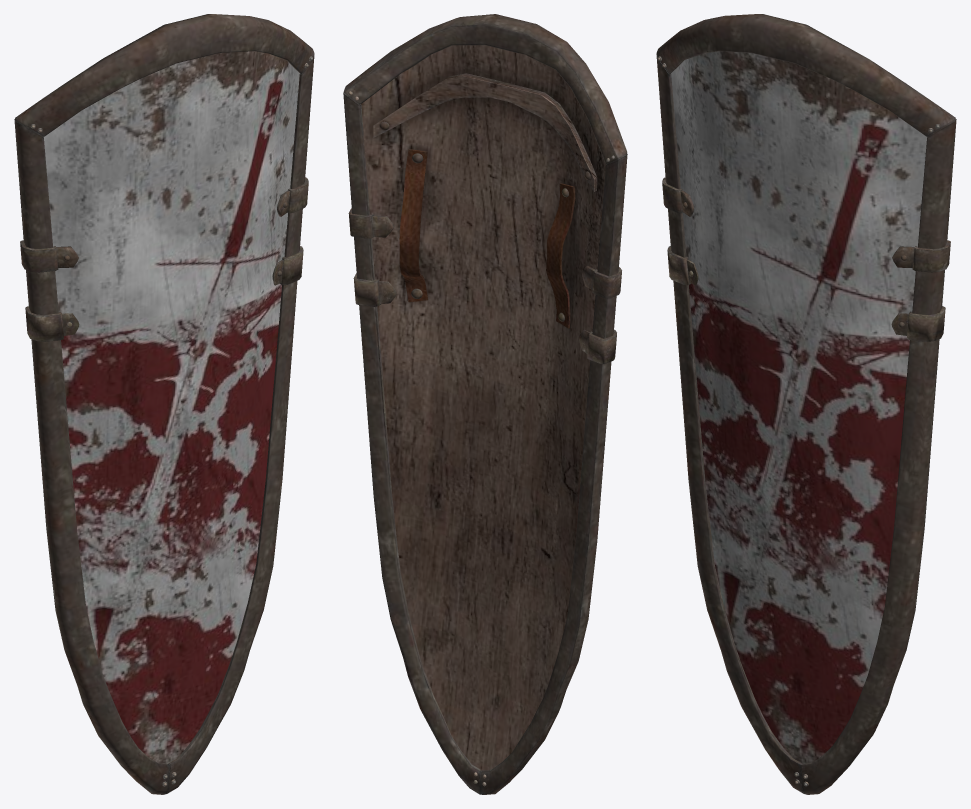
The model's file is kite_shield.glb.
The picture shows the model from 3 angles, left to right: view 1: azimuth 30°, elevation 25°; view 2: azimuth 150°, elevation 25°; view 3: azimuth 330°, elevation 25°; orthographic projection. The views are drawn at different scales.
Parts seen in each view (by area): view 1: kite_shield_body, kite_shield_metal_trim, kite_shield_clamps_and_bolts; view 2: kite_shield_body, kite_shield_metal_trim, kite_shield_clamps_and_bolts; view 3: kite_shield_body, kite_shield_metal_trim, kite_shield_clamps_and_bolts.
Part boxes in pixels (x1=…): kite_shield_body: x1=43, y1=51, x2=299, y2=763; kite_shield_metal_trim: x1=14, y1=14, x2=314, y2=794; kite_shield_clamps_and_bolts: x1=20, y1=56, x2=312, y2=786; kite_shield_body: x1=361, y1=45, x2=606, y2=770; kite_shield_metal_trim: x1=343, y1=14, x2=627, y2=794; kite_shield_clamps_and_bolts: x1=348, y1=91, x2=621, y2=786; kite_shield_body: x1=671, y1=51, x2=927, y2=763; kite_shield_metal_trim: x1=656, y1=14, x2=956, y2=794; kite_shield_clamps_and_bolts: x1=658, y1=56, x2=950, y2=786.
Bounding box in the file's own units: 0.5432 × 1.39 × 0.1347.
Materials: 2 (2 with a texture image).
